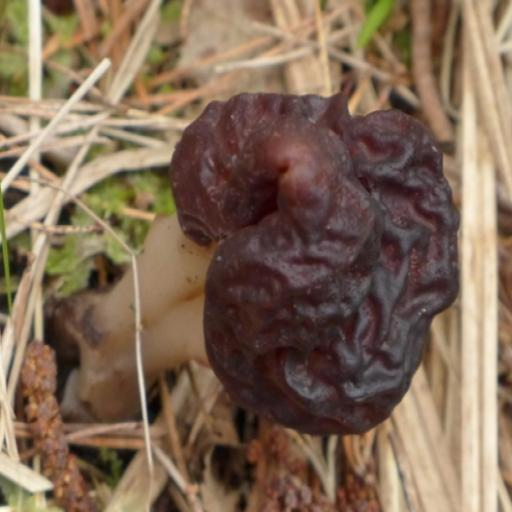mushroom: (140, 85, 459, 436)
